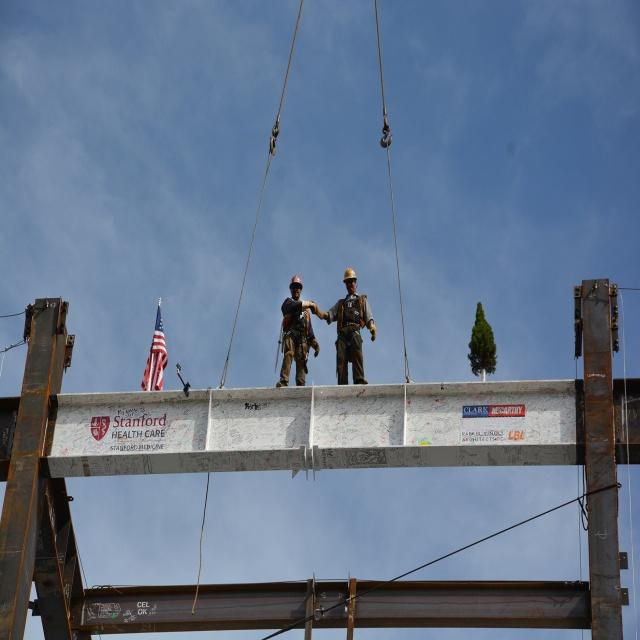helmet: (343, 356, 357, 391), (290, 367, 303, 397)
